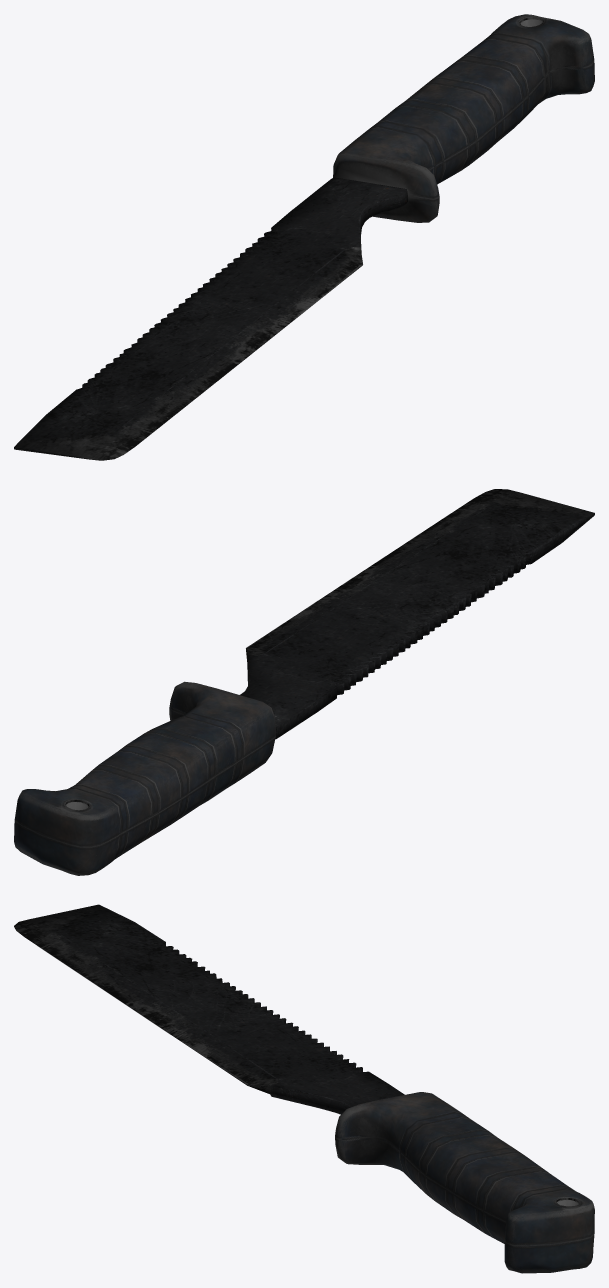
Rendered from wep6.glb.
The picture shows the model from 3 angles, top to bottom: view 1: azimuth 30°, elevation 25°; view 2: azimuth 210°, elevation 25°; view 3: azimuth 270°, elevation 25°; orthographic projection.
Visible parts, largest first — view 1: Object_2; view 2: Object_2; view 3: Object_2.
Part boxes in pixels (x1=…): Object_2: x1=14, y1=14, x2=594, y2=460; Object_2: x1=14, y1=489, x2=594, y2=875; Object_2: x1=14, y1=904, x2=594, y2=1273.
Size of the model in its own units: 693 by 64.05 by 447.
Materials: 1 (1 with a texture image).
